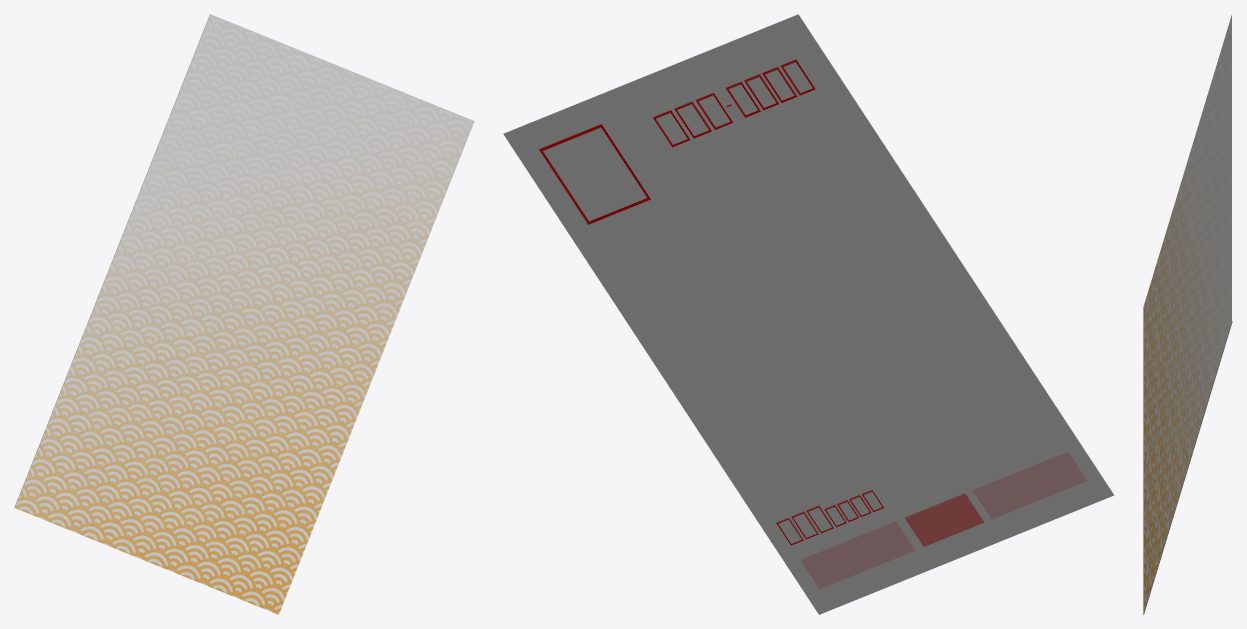
File: hagaki_empty.glb
3 renders of one model, left to right at view 1: azimuth 30°, elevation 25°; view 2: azimuth 150°, elevation 25°; view 3: azimuth 270°, elevation 25°, orthographic. The views are drawn at different scales.
Visible parts, largest first — view 1: Plane; view 2: Plane; view 3: Plane.
Boxes of the visible parts, x1,y1,x2,y2 form: Plane: [14, 14, 474, 614]; Plane: [503, 14, 1114, 614]; Plane: [1143, 14, 1232, 614].
Size of the model in its own units: 0.1619 by 0.1768 by 0.0244.
Materials: 1 (1 with a texture image).
